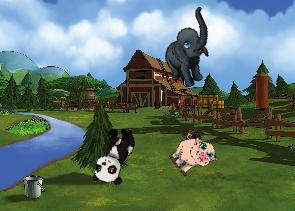elephant: (150, 6, 229, 92)
panda: (90, 122, 138, 188)
pig: (164, 127, 220, 183)
